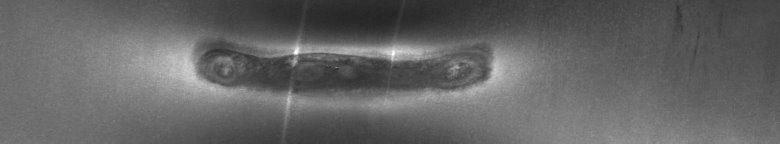ke: (192, 37, 498, 127)
